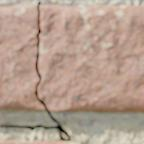brick: (0, 140, 81, 143)
broken_brick: (39, 5, 143, 112), (0, 6, 44, 109)
crack: (0, 1, 77, 142)
